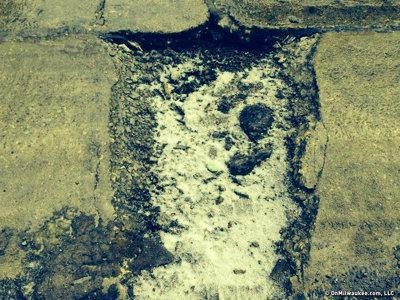pothole: (88, 15, 327, 299)
